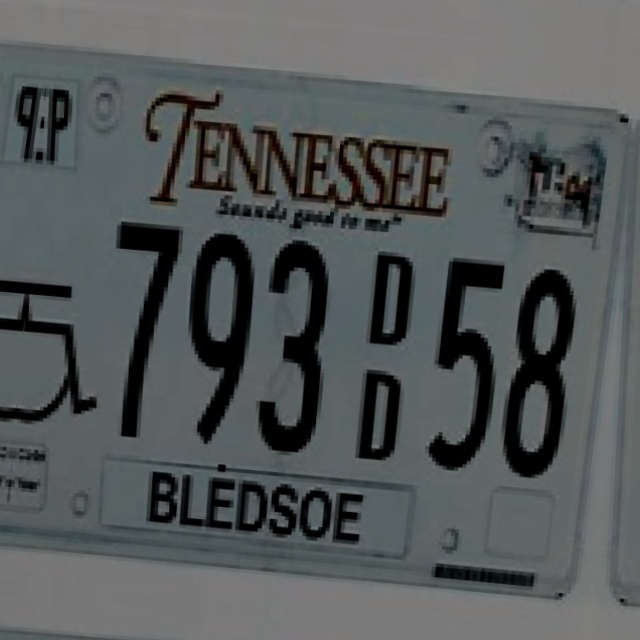ISA: (14, 211, 112, 429), (0, 204, 33, 422)
